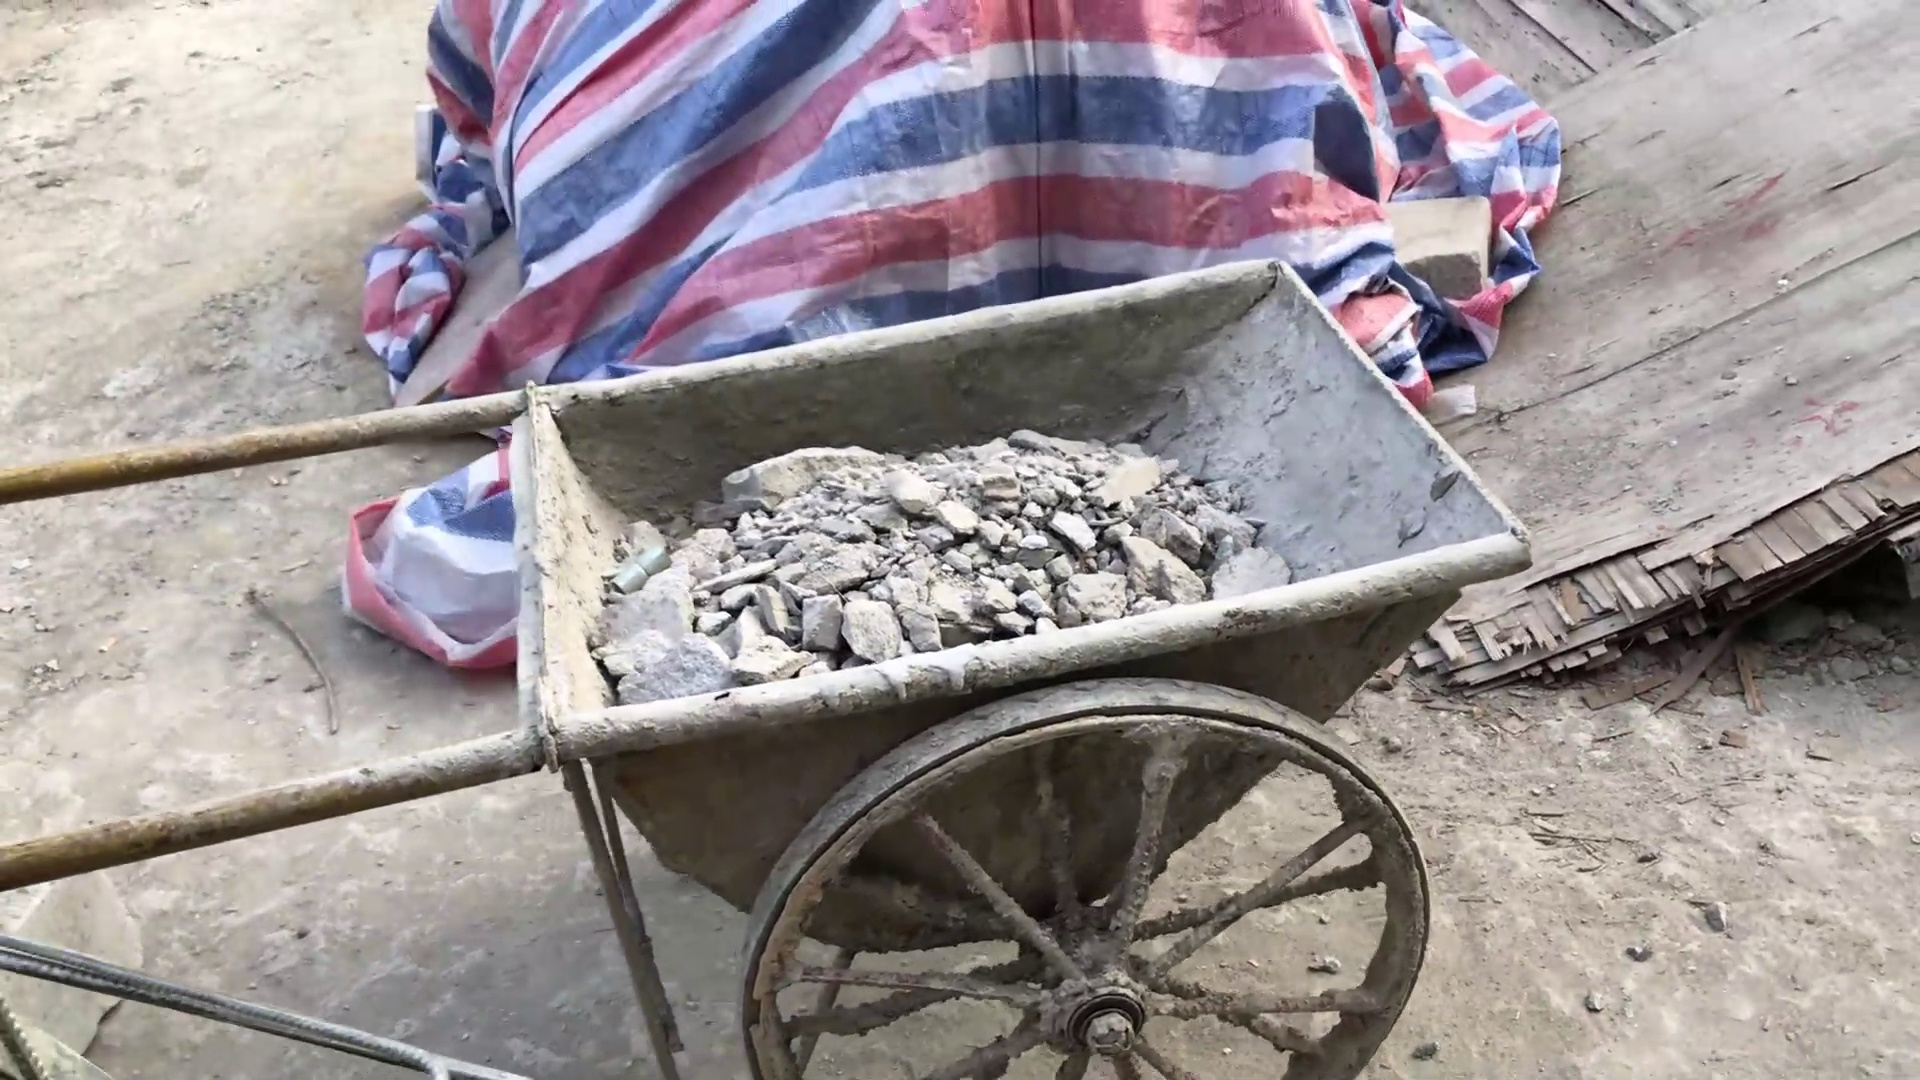handcart: (20, 247, 1673, 1077)
